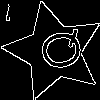Q: (29, 26, 87, 76)
